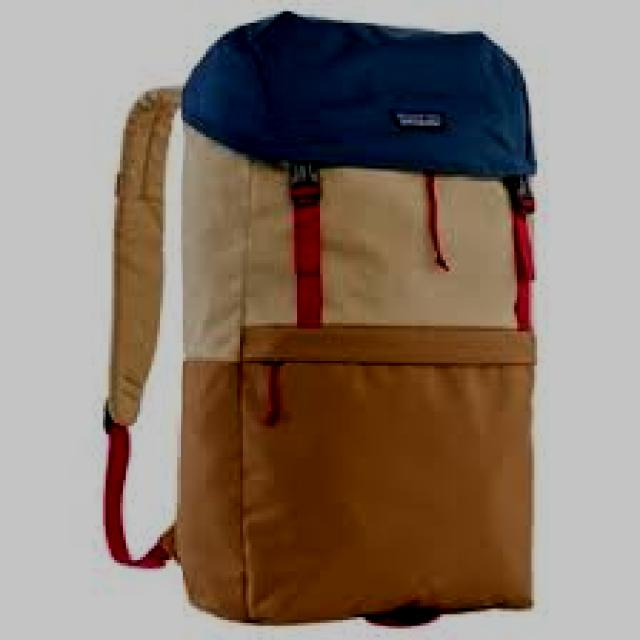backpack: (101, 10, 538, 627)
